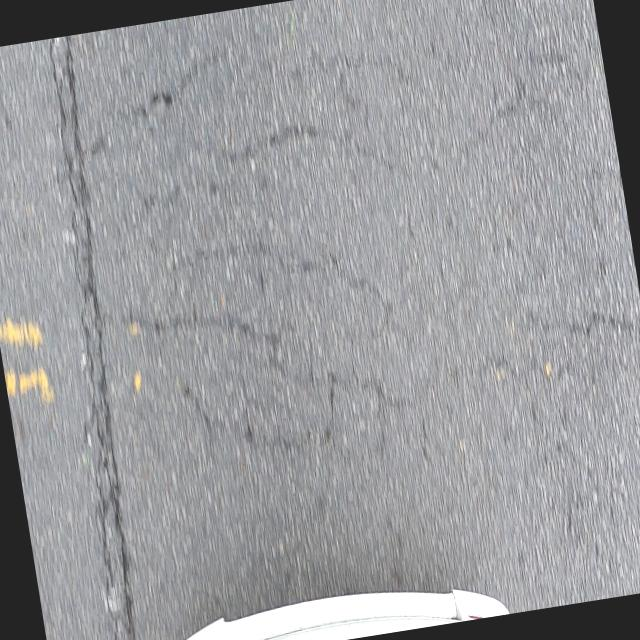Retak-Memanjang: (64, 37, 136, 640), (47, 41, 119, 640)
